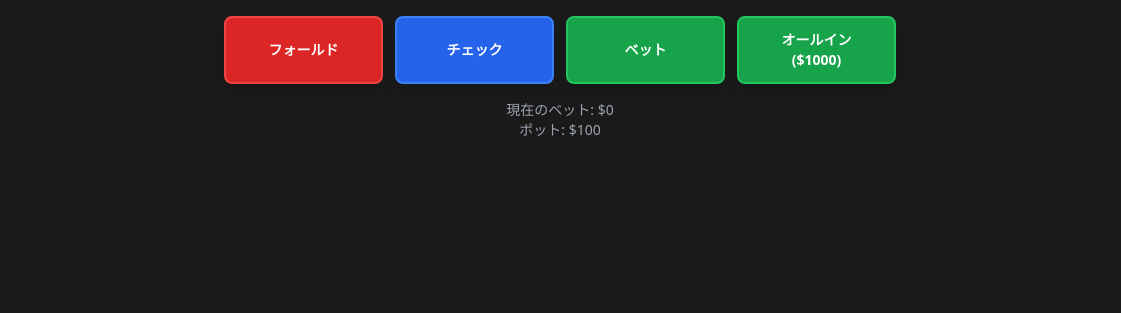
ActionButtons › ベットボタンをクリックするとベット入力画面が表示される
This screenshot has width=1121, height=313.
Click the button with test id "bet-btn" at (646, 50), box 566,16 -> 725,84
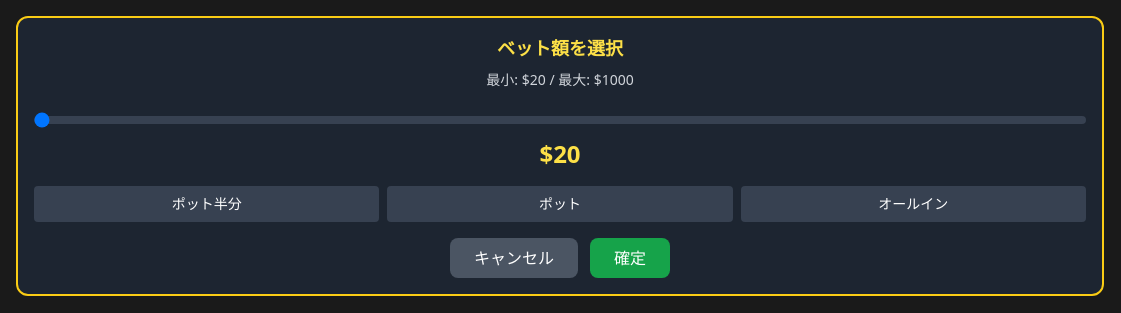
Result: the heading "ベット額を選択" is shown at 497,36 -> 623,60
Result: the 2nd slider with test id "bet-slider" is shown at 34,116 -> 1086,124
Result: the button with test id "confirm-bet-btn" is shown at 590,238 -> 670,278
